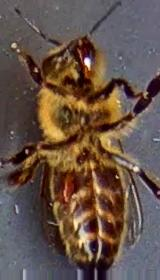varroa_mite: (51, 164, 85, 210)
